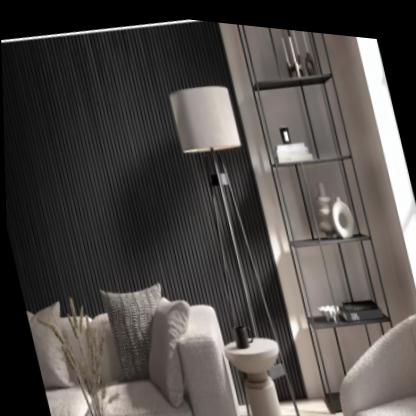Wall Panel: (0, 0, 308, 416)
